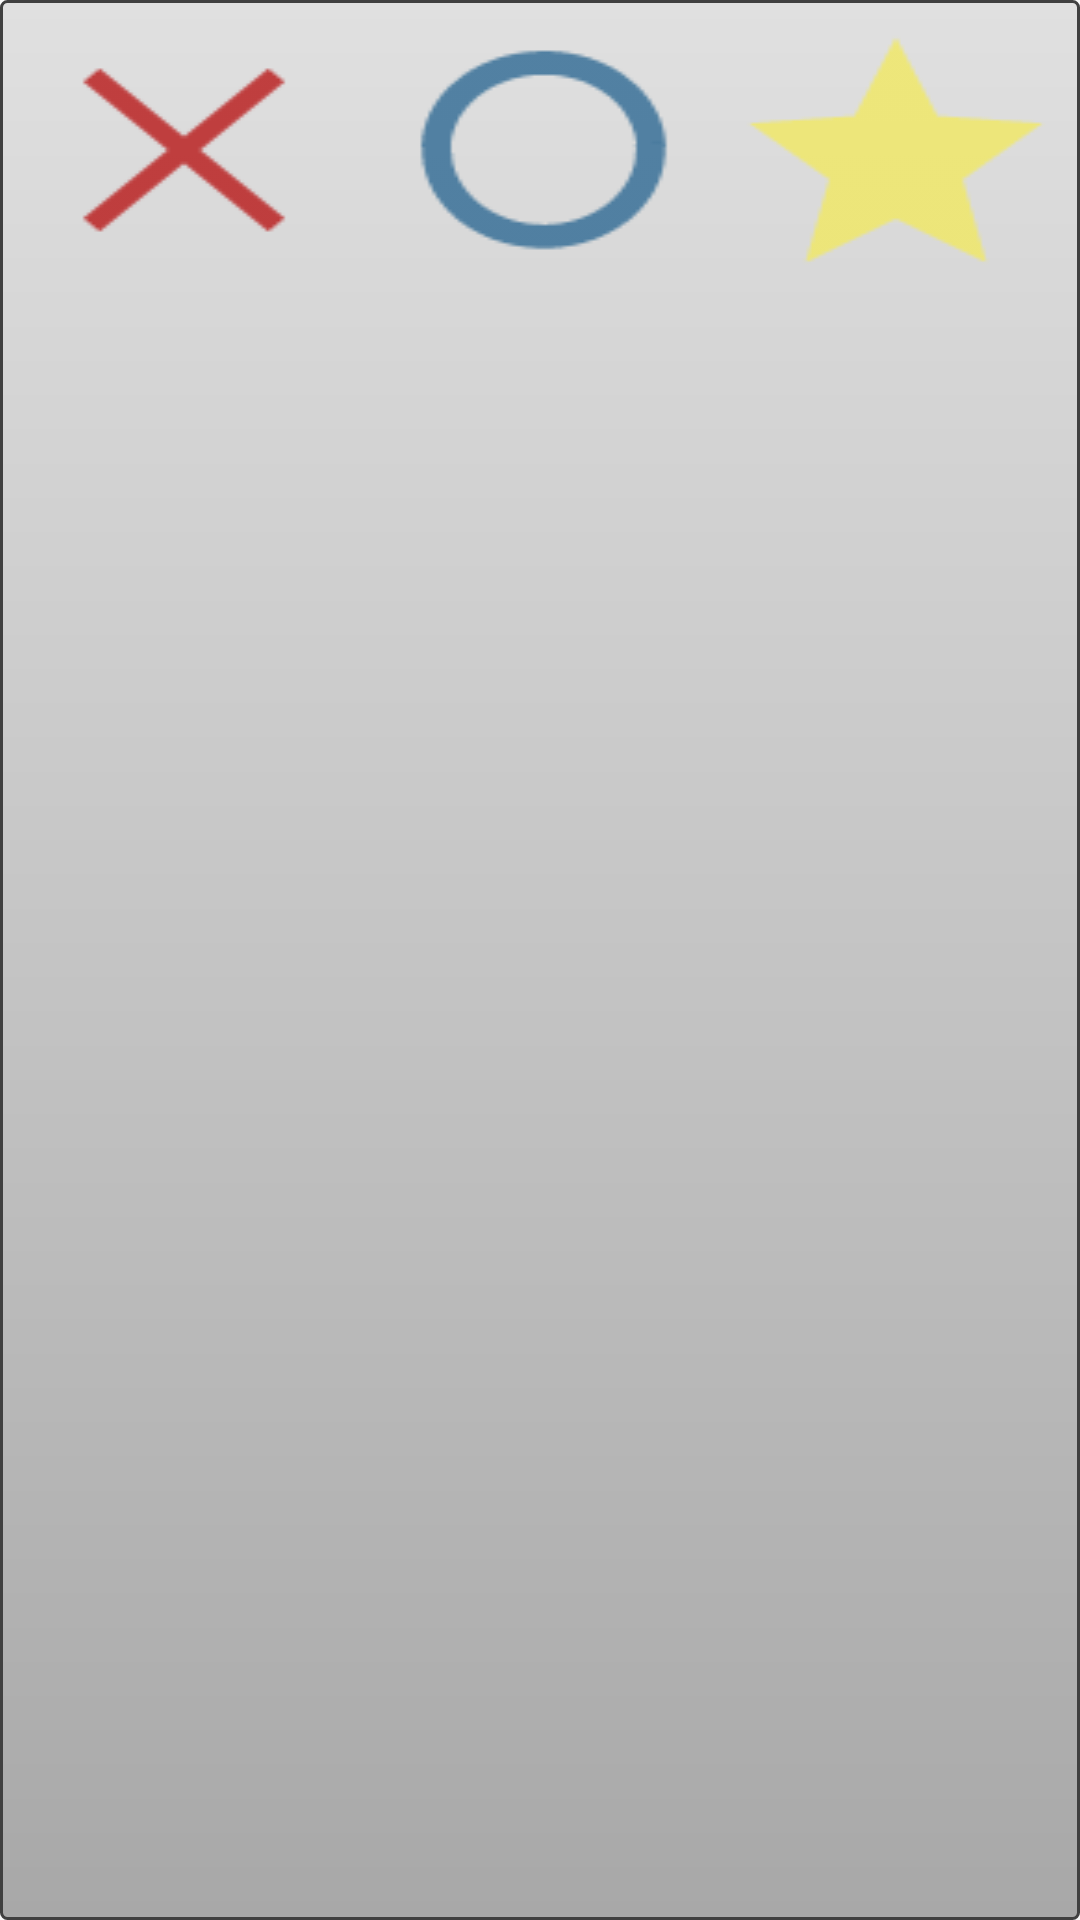

Screen size 1080px x 1920px. Icon name, then its box in pixels as (x1, y1, x2, y2):
remove: (83, 68, 285, 232)
star: (750, 39, 1042, 262)
